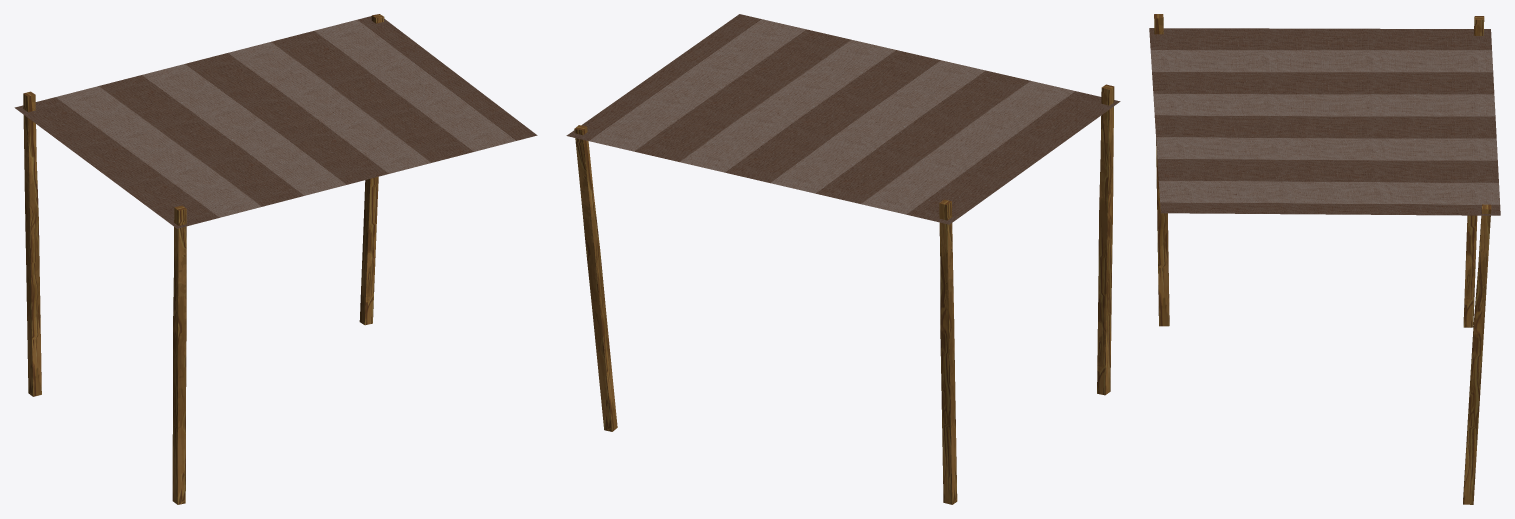
Rendered from Canope.fbx.
3 renders of one model, left to right at view 1: azimuth 30°, elevation 25°; view 2: azimuth 150°, elevation 25°; view 3: azimuth 270°, elevation 25°, orthographic. The views are drawn at different scales.
Visible parts, largest first — view 1: Canope, CanopeSticks; view 2: Canope, CanopeSticks; view 3: Canope, CanopeSticks.
Part boxes in pixels (<box>): Canope: <box>14,16,537,228</box>; CanopeSticks: <box>23,14,384,504</box>; Canope: <box>566,14,1120,224</box>; CanopeSticks: <box>574,84,1114,504</box>; Canope: <box>1149,28,1500,215</box>; CanopeSticks: <box>1154,14,1491,504</box>.
Size of the model in its own units: 3.26 by 2.57 by 2.58.
2 materials, 2 textured.
